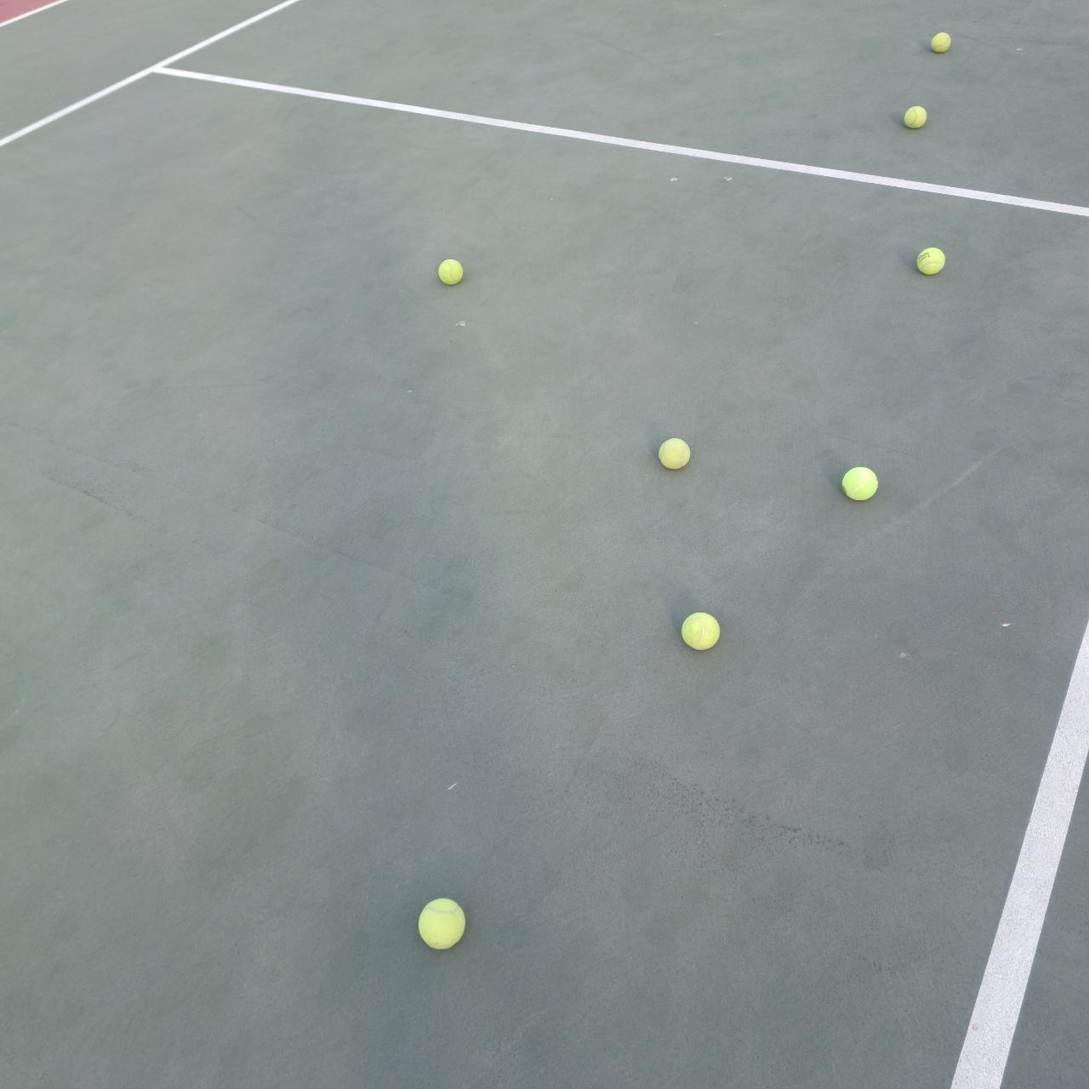tennis-ball: (416, 895, 466, 949), (680, 610, 720, 651), (840, 464, 879, 501), (657, 435, 691, 470), (915, 244, 945, 275), (436, 255, 464, 285), (902, 103, 927, 128), (929, 30, 951, 53)
